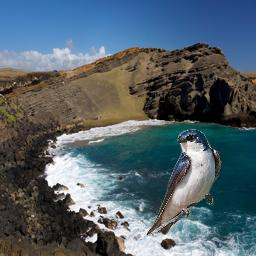Swallow: (146, 128, 222, 236)
